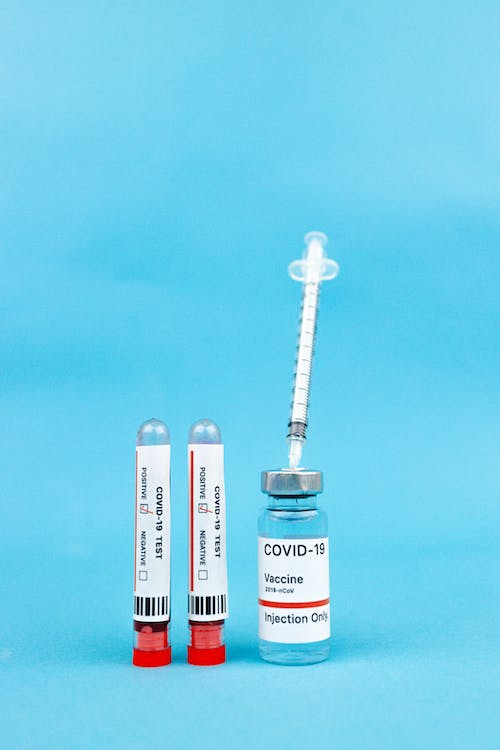blood: (129, 617, 173, 633), (184, 619, 228, 627)
